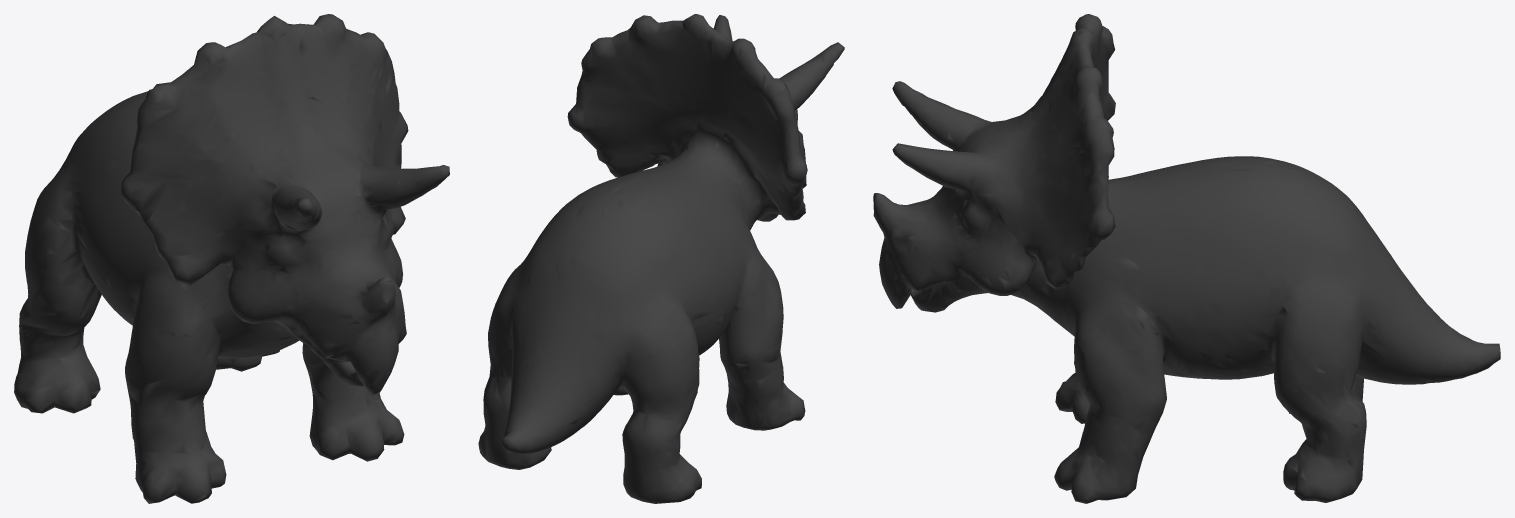
Rendered from triceratops.glb.
3 renders of one model, left to right at view 1: azimuth 30°, elevation 25°; view 2: azimuth 150°, elevation 25°; view 3: azimuth 270°, elevation 25°, orthographic. The views are drawn at different scales.
Visible parts, largest first — view 1: geometry_0; view 2: geometry_0; view 3: geometry_0.
Part boxes in pixels (bbox=[...]): geometry_0: bbox=[14, 14, 449, 503]; geometry_0: bbox=[478, 14, 844, 503]; geometry_0: bbox=[873, 14, 1500, 503].
Size of the model in its own units: 0.4847 by 0.7404 by 1.
Materials: 1 (1 with a texture image).
